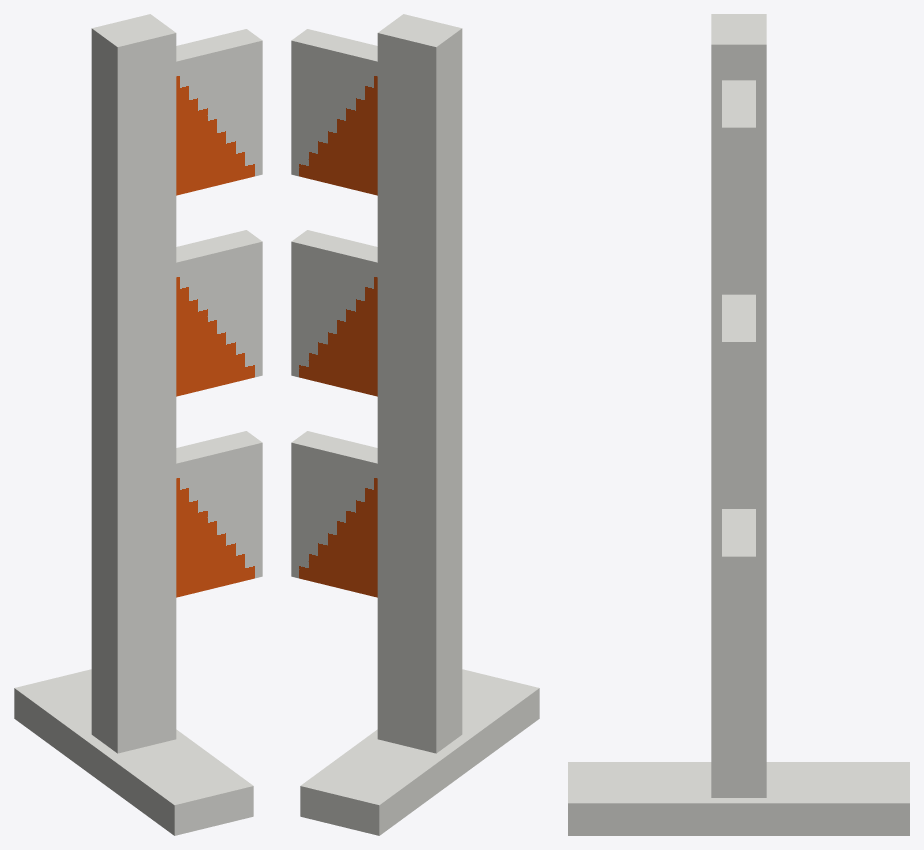
File: workzone_barricade_type3_end_right.obj
The picture shows the model from 3 angles, left to right: view 1: azimuth 30°, elevation 25°; view 2: azimuth 150°, elevation 25°; view 3: azimuth 270°, elevation 25°; orthographic projection. The views are drawn at different scales.
Parts seen in each view (by area): view 1: workzone_barricade_type3_end_right; view 2: workzone_barricade_type3_end_right; view 3: workzone_barricade_type3_end_right.
Part boxes in pixels (x1,y1,x2,y2): workzone_barricade_type3_end_right: (14,14,262,835); workzone_barricade_type3_end_right: (291,14,539,835); workzone_barricade_type3_end_right: (568,14,909,835).
Size of the model in its own units: 0.3415 by 1.5 by 0.5915.
